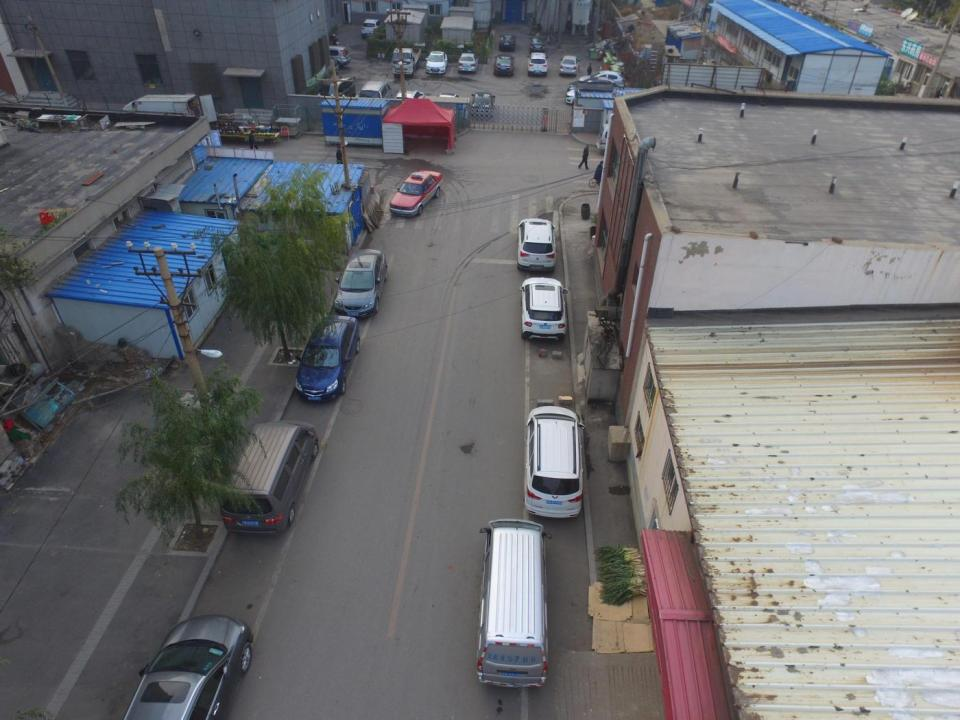car: (121, 612, 253, 720), (294, 314, 361, 404), (332, 248, 389, 320), (519, 276, 569, 342), (388, 169, 444, 218), (516, 217, 557, 271), (578, 70, 626, 95), (394, 89, 424, 113), (471, 92, 496, 119), (436, 93, 460, 118), (527, 52, 549, 77), (425, 51, 448, 74), (558, 55, 581, 76), (493, 54, 514, 76), (457, 52, 479, 73), (360, 18, 382, 38), (528, 35, 546, 53), (498, 34, 516, 50)
truck: (392, 47, 421, 76)
van: (478, 519, 553, 689), (219, 419, 320, 538), (523, 406, 586, 520), (359, 80, 392, 112)
